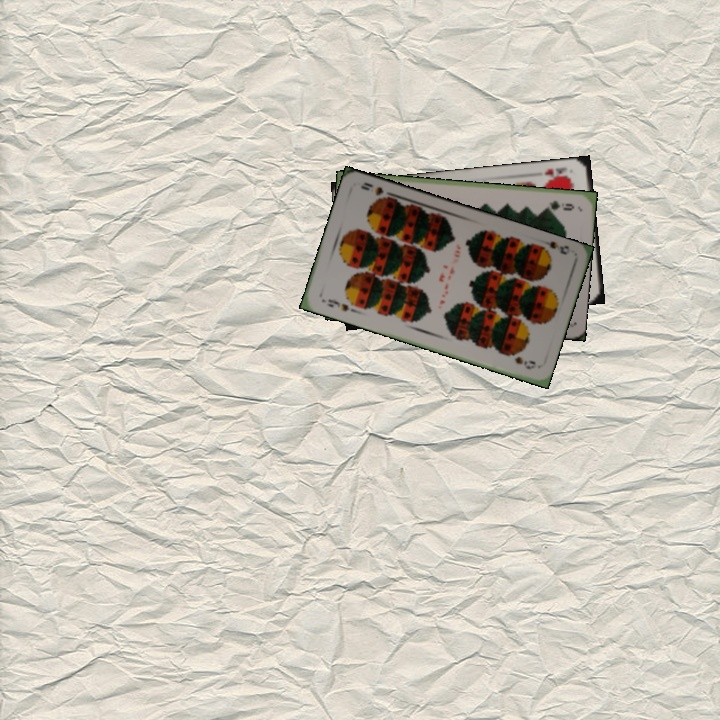G9: (541, 196, 577, 213)
HK: (540, 163, 573, 183)
S9: (534, 237, 571, 257), (323, 295, 352, 314)
